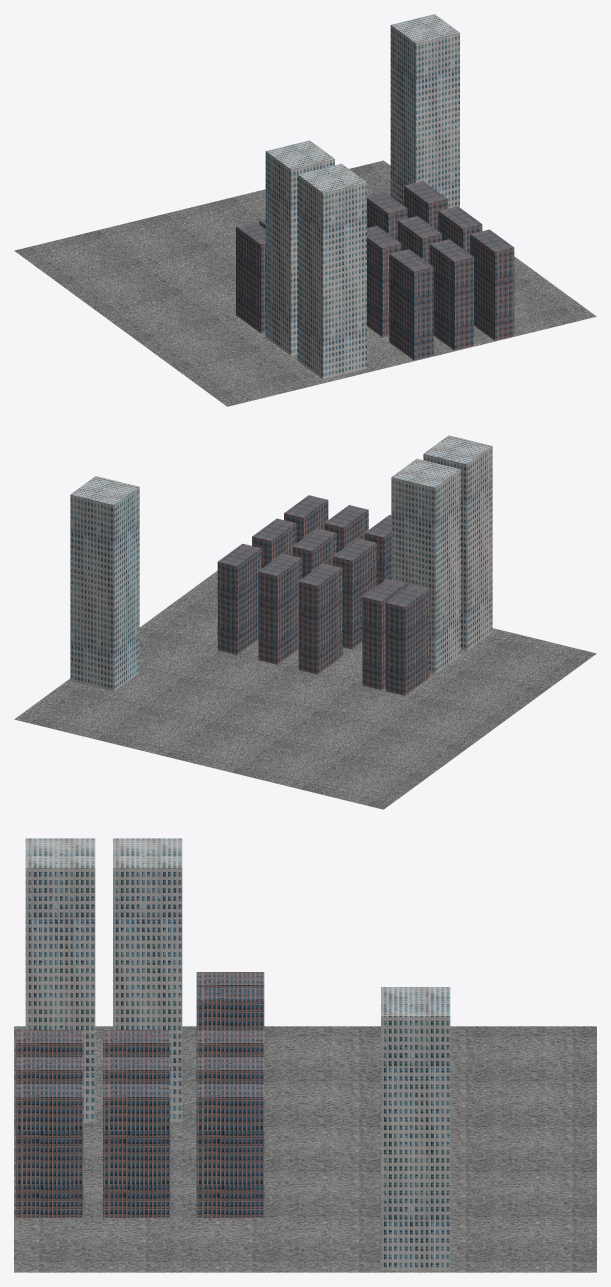
The model's file is mini city test.glb.
The picture shows the model from 3 angles, top to bottom: view 1: azimuth 30°, elevation 25°; view 2: azimuth 150°, elevation 25°; view 3: azimuth 270°, elevation 25°; orthographic projection. The views are drawn at different scales.
Visible parts, largest first — view 1: Plane; view 2: Plane; view 3: Plane.
Part boxes in pixels (bbox=[...]): Plane: bbox=[14, 14, 596, 406]; Plane: bbox=[14, 435, 596, 809]; Plane: bbox=[14, 838, 596, 1272].
Size of the model in its own units: 174 by 83.8 by 174.
Materials: 3 (3 with a texture image).
